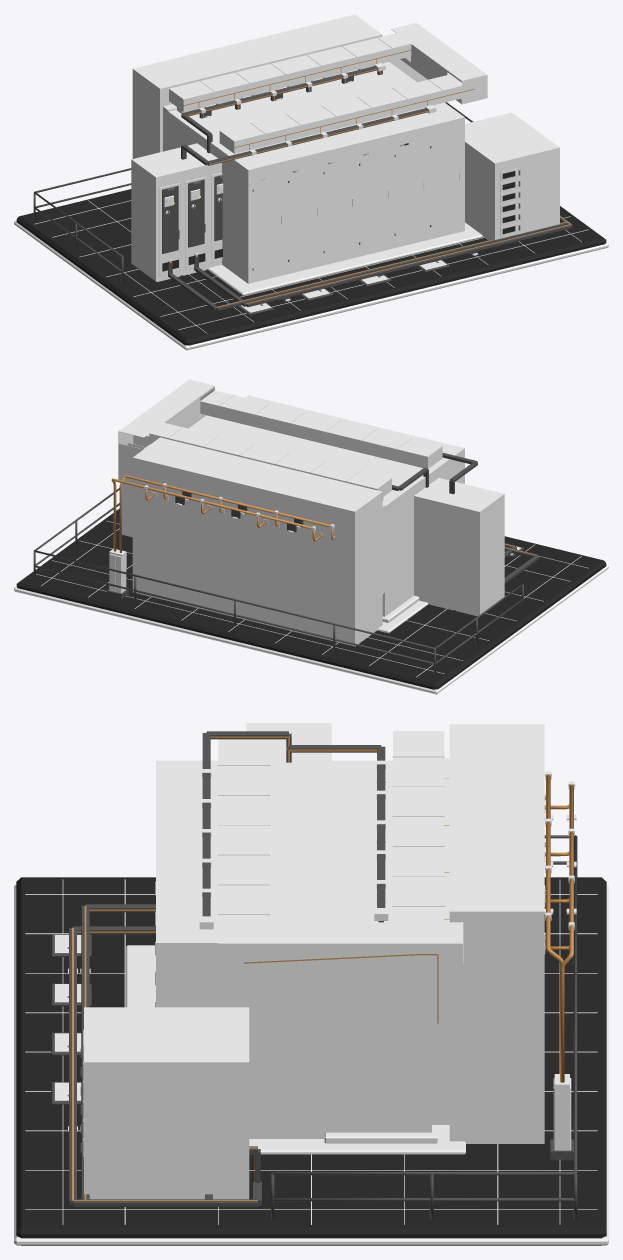
File: facility.glb
3 renders of one model, top to bottom at view 1: azimuth 30°, elevation 25°; view 2: azimuth 150°, elevation 25°; view 3: azimuth 270°, elevation 25°, orthographic. The views are drawn at different scales.
Parts seen in each view (by area): view 1: GN_PICK_WORKLOADS, GN_PLATFORM_Platform, GN_PICK_STORAGE, GN_AIR_SECTION_COVERS_Graphite, GN_PICK_COOLING, GN_COOLING_Graphite, GN_PICK_POWER, GN_POWER_Steel, GN_PLATFORM_Dark, GN_PLATFORM_Graphite, GN_STORAGE_Steel, GN_POWER_Graphite (+7 smaller); view 2: GN_PICK_COOLING, GN_PLATFORM_Platform, GN_PICK_POWER, GN_PICK_WORKLOADS, GN_AIR_SECTION_COVERS_Graphite, GN_COOLING_Graphite, GN_PLATFORM_Dark, GN_PLATFORM_Steel, GN_ACCENT_COOLING_Copper, GN_PLATFORM_Graphite, GN_POWER_Steel, GN_COOLING_Steel (+1 smaller); view 3: GN_PLATFORM_Platform, GN_PICK_WORKLOADS, GN_PICK_COOLING, GN_PICK_STORAGE, GN_AIR_SECTION_COVERS_Graphite, GN_COOLING_Graphite, GN_PLATFORM_Dark, GN_PLATFORM_Graphite, GN_STORAGE_Steel, GN_PLATFORM_Steel, GN_POWER_Steel, GN_ACCENT_COOLING_Copper (+2 smaller).
Part boxes in pixels (box(x1,y1,x2,y2)): GN_PICK_WORKLOADS: box(168, 62, 464, 283); GN_PLATFORM_Platform: box(16, 189, 606, 345); GN_PICK_STORAGE: box(465, 112, 559, 240); GN_AIR_SECTION_COVERS_Graphite: box(168, 23, 486, 149); GN_PICK_COOLING: box(132, 14, 382, 158); GN_COOLING_Graphite: box(163, 44, 487, 153); GN_PICK_POWER: box(131, 143, 221, 281); GN_POWER_Steel: box(162, 66, 428, 253); GN_PLATFORM_Dark: box(14, 200, 608, 350); GN_PLATFORM_Graphite: box(207, 222, 483, 312); GN_STORAGE_Steel: box(168, 215, 572, 310); GN_POWER_Graphite: box(159, 63, 436, 275); GN_PICK_COOLING: box(132, 437, 382, 646); GN_PLATFORM_Platform: box(16, 508, 606, 689); GN_PICK_POWER: box(414, 478, 504, 615); GN_PICK_WORKLOADS: box(199, 395, 464, 616); GN_AIR_SECTION_COVERS_Graphite: box(118, 379, 441, 488); GN_COOLING_Graphite: box(109, 386, 442, 593); GN_PLATFORM_Dark: box(14, 520, 608, 694); GN_PLATFORM_Steel: box(33, 488, 523, 675); GN_ACCENT_COOLING_Copper: box(111, 475, 333, 552); GN_PLATFORM_Graphite: box(377, 546, 520, 633); GN_POWER_Steel: box(392, 453, 477, 494); GN_COOLING_Steel: box(107, 491, 303, 599); GN_PLATFORM_Platform: box(16, 877, 606, 1245); GN_PICK_WORKLOADS: box(156, 760, 431, 1138); GN_PICK_COOLING: box(449, 724, 544, 1143); GN_PICK_STORAGE: box(84, 1007, 249, 1199); GN_AIR_SECTION_COVERS_Graphite: box(218, 731, 463, 1124); GN_COOLING_Graphite: box(218, 731, 574, 1150); GN_PLATFORM_Dark: box(14, 879, 608, 1245); GN_PLATFORM_Graphite: box(54, 935, 465, 1154); GN_STORAGE_Steel: box(69, 904, 261, 1206); GN_PLATFORM_Steel: box(51, 835, 577, 1219); GN_POWER_Steel: box(202, 731, 385, 916); GN_ACCENT_COOLING_Copper: box(244, 775, 573, 1082).
Size of the model in its own units: 10.86 by 3.59 by 7.66.
Materials: 8 (8 with a texture image).
